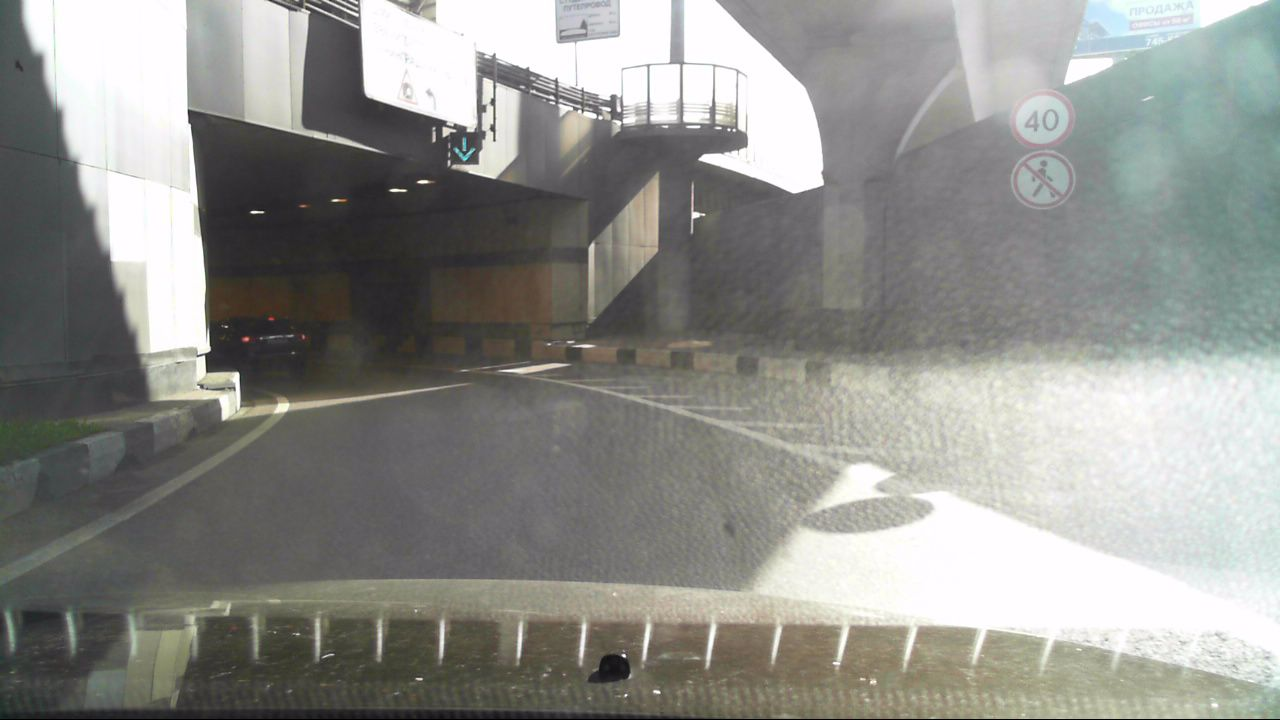speed_warning_40: (1010, 87, 1077, 149)
